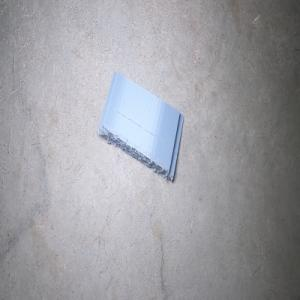PlasticPart: (97, 70, 184, 181)
